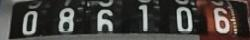digits: (134, 2, 158, 34), (175, 6, 193, 31), (212, 7, 230, 32), (57, 7, 74, 32), (22, 10, 38, 33), (96, 9, 112, 31)
